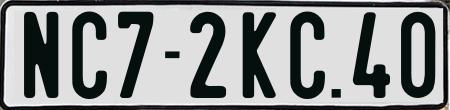0: (399, 12, 434, 104)
2: (189, 9, 229, 99)
4: (352, 12, 393, 99)
7: (115, 11, 150, 101)
C: (288, 8, 328, 100), (70, 8, 106, 96)
K: (240, 9, 276, 98)
N: (21, 9, 57, 96)
